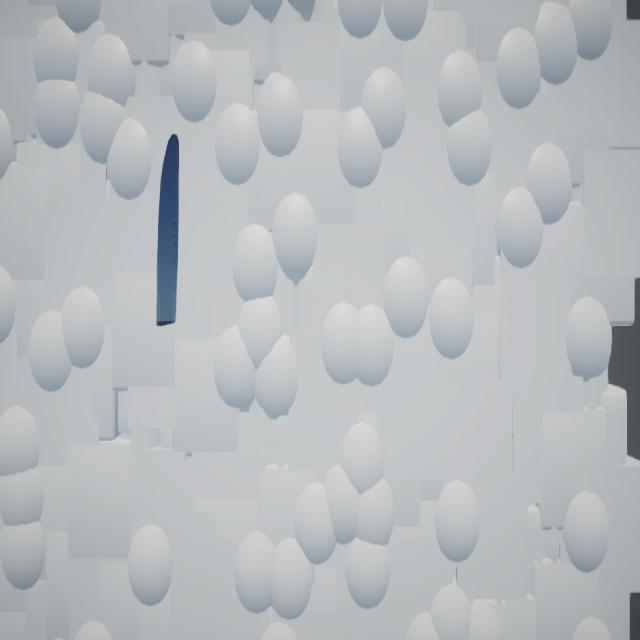top_knife: (158, 135, 180, 328)
